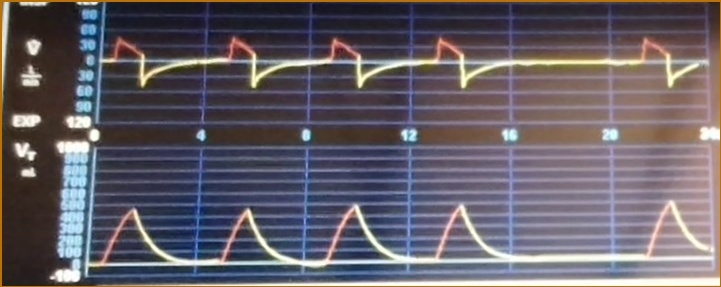Normal Flow: (104, 14, 706, 115)
Normal Volume: (94, 186, 709, 274)
